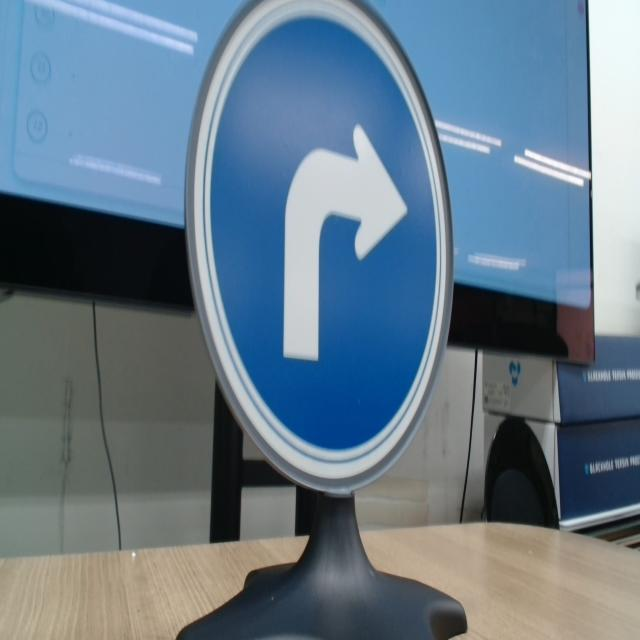right_dierection: (177, 0, 456, 501)
